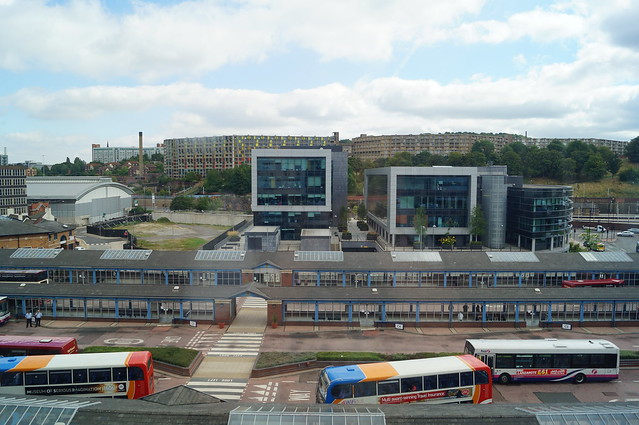bus: (317, 354, 493, 404), (1, 351, 154, 400), (464, 339, 619, 385), (1, 335, 78, 357), (562, 278, 624, 288), (1, 295, 11, 325)
